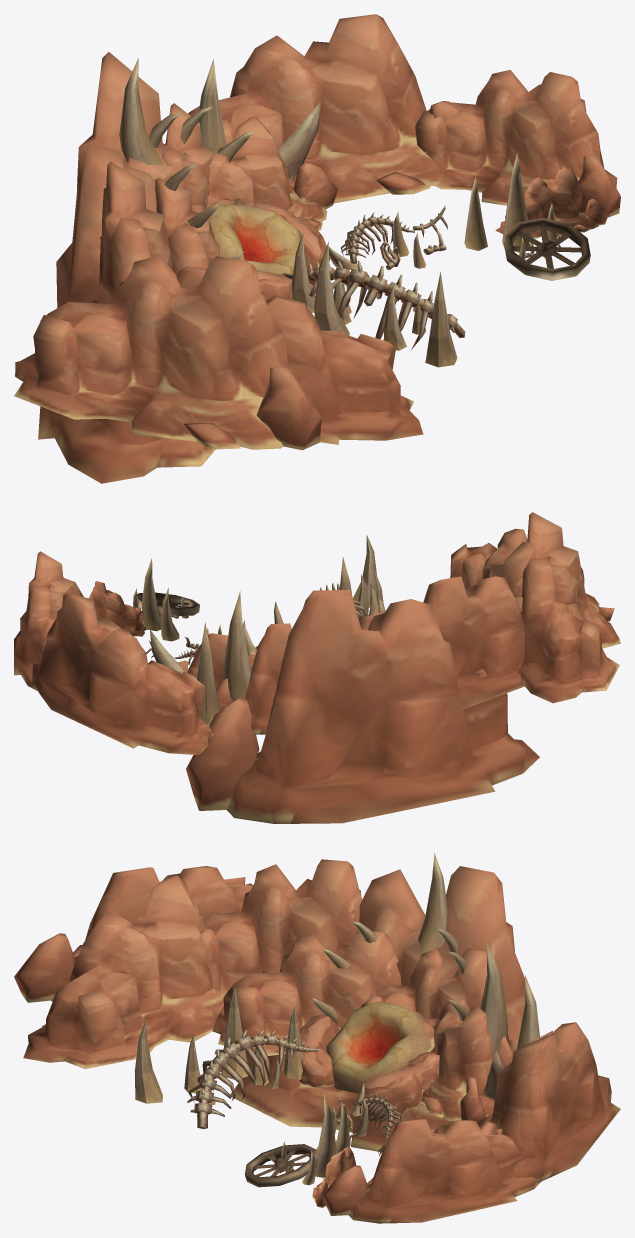
Rendered from Area_02_1_y.FBX.
3 views of the same model, one above another, from view 1: azimuth 30°, elevation 25°; view 2: azimuth 150°, elevation 25°; view 3: azimuth 270°, elevation 25° (orthographic). The views are drawn at different scales.
Visible parts, largest first — view 1: Area_02_1_y; view 2: Area_02_1_y; view 3: Area_02_1_y.
Boxes of the visible parts, x1,y1,x2,y2 form: Area_02_1_y: (14, 14, 620, 483); Area_02_1_y: (14, 512, 620, 823); Area_02_1_y: (14, 852, 620, 1223).
Bounding box in the file's own units: 158 × 69.11 × 142.
1 material, 1 textured.
